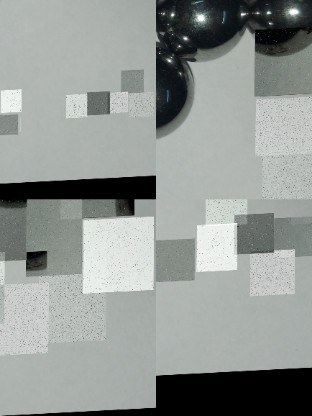ironball: (38, 262, 106, 345), (83, 219, 154, 295), (159, 0, 251, 58), (156, 46, 208, 135), (25, 199, 82, 278), (254, 28, 311, 98), (237, 0, 310, 53), (0, 284, 48, 357), (255, 98, 311, 158), (262, 152, 311, 199), (250, 252, 295, 298), (196, 225, 237, 273), (162, 199, 204, 240), (0, 199, 26, 264), (155, 240, 194, 283), (234, 215, 274, 256), (60, 199, 134, 221), (274, 219, 311, 260), (205, 199, 247, 227), (128, 94, 153, 119), (87, 93, 110, 117), (121, 71, 143, 95), (66, 95, 87, 120), (0, 90, 21, 113), (107, 94, 128, 115), (156, 206, 164, 255), (0, 115, 18, 136)
